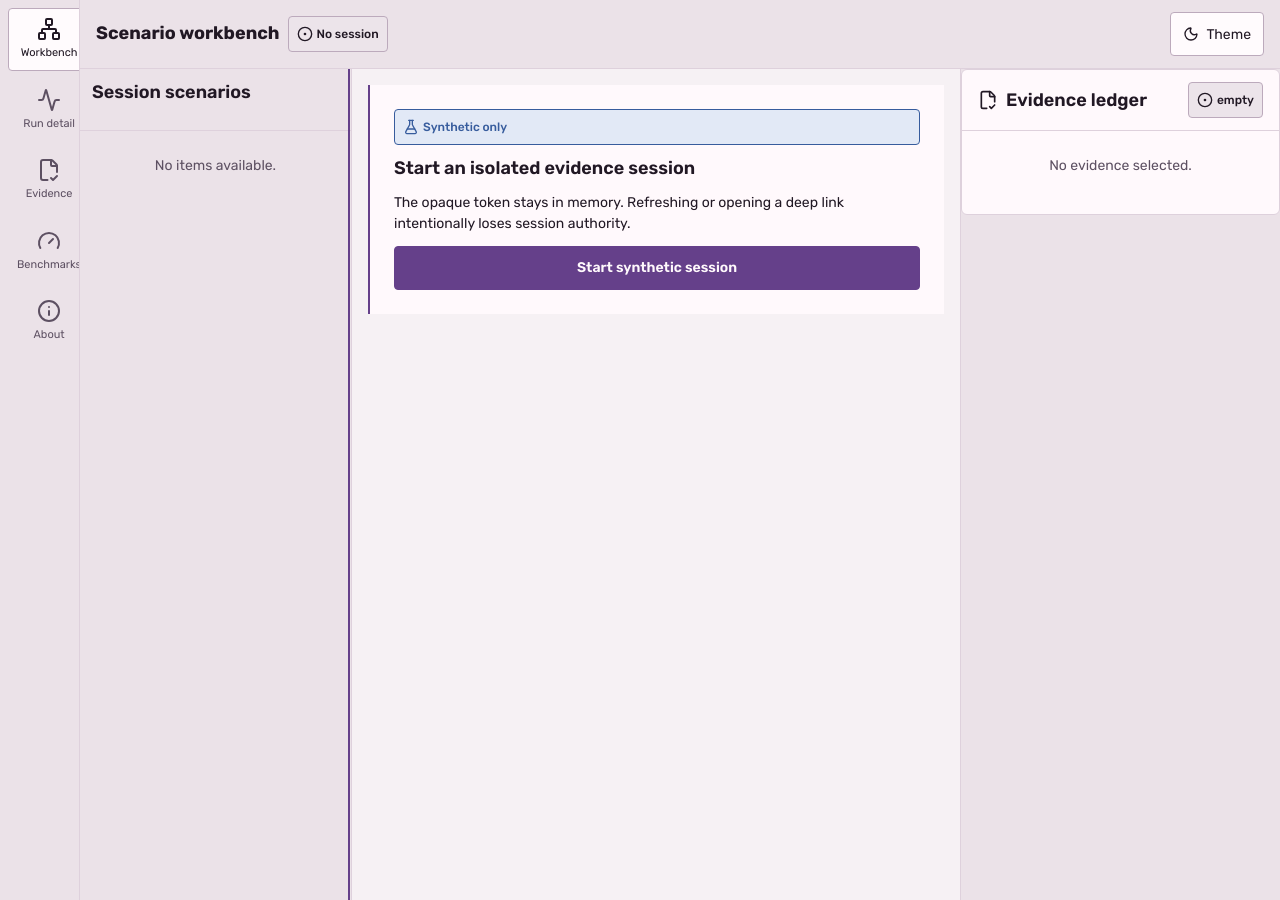
it: artifact-backed secondary routes › keeps empty benchmark numbers local and shows an actionable field error
Click the button "Start synthetic session" at (657, 268), box [394,246,920,290]
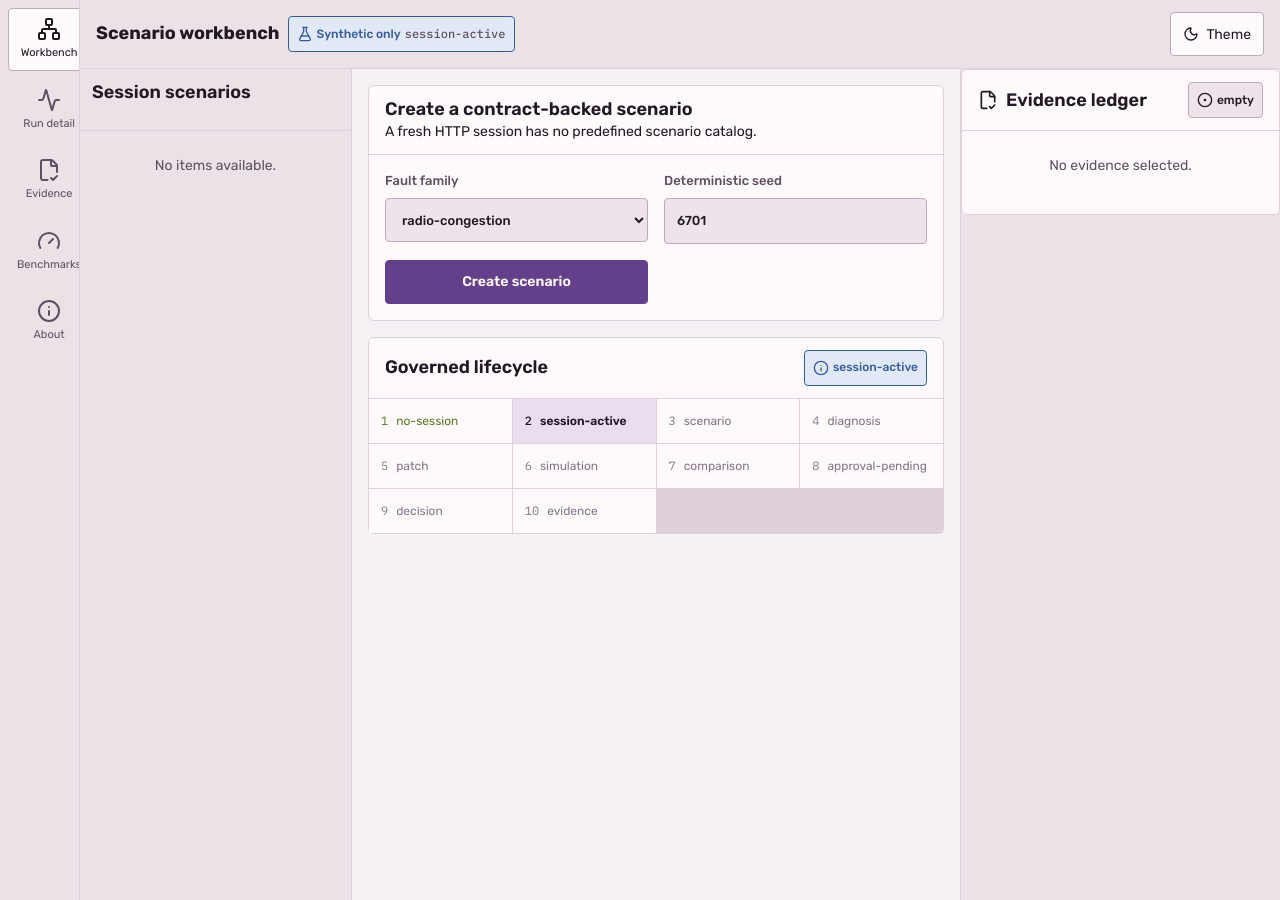
Click the link "Benchmarks" at (49, 250), box [17,228,81,270]
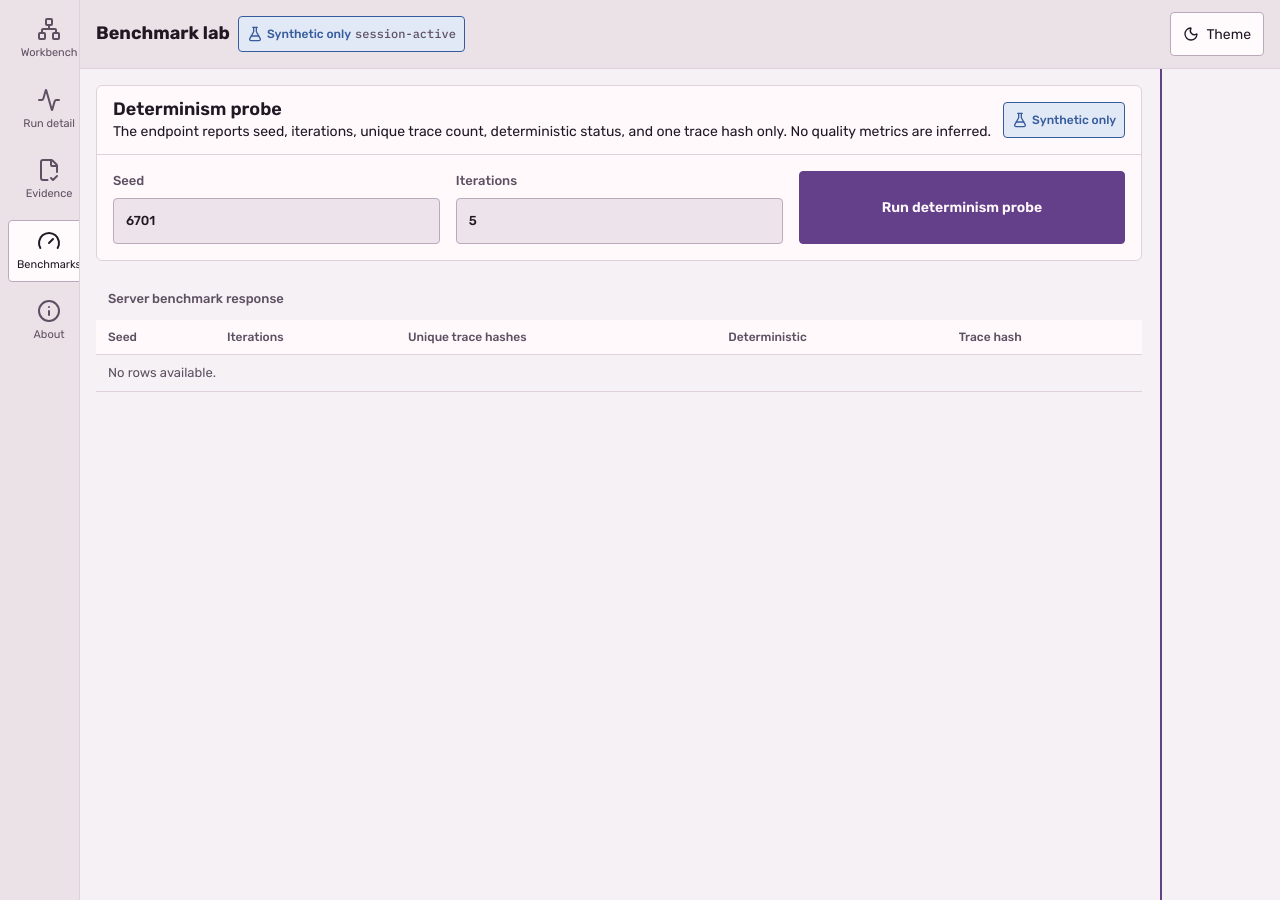
Clear the number field labelled "Iterations" at (619, 221), box [456,198,783,244]
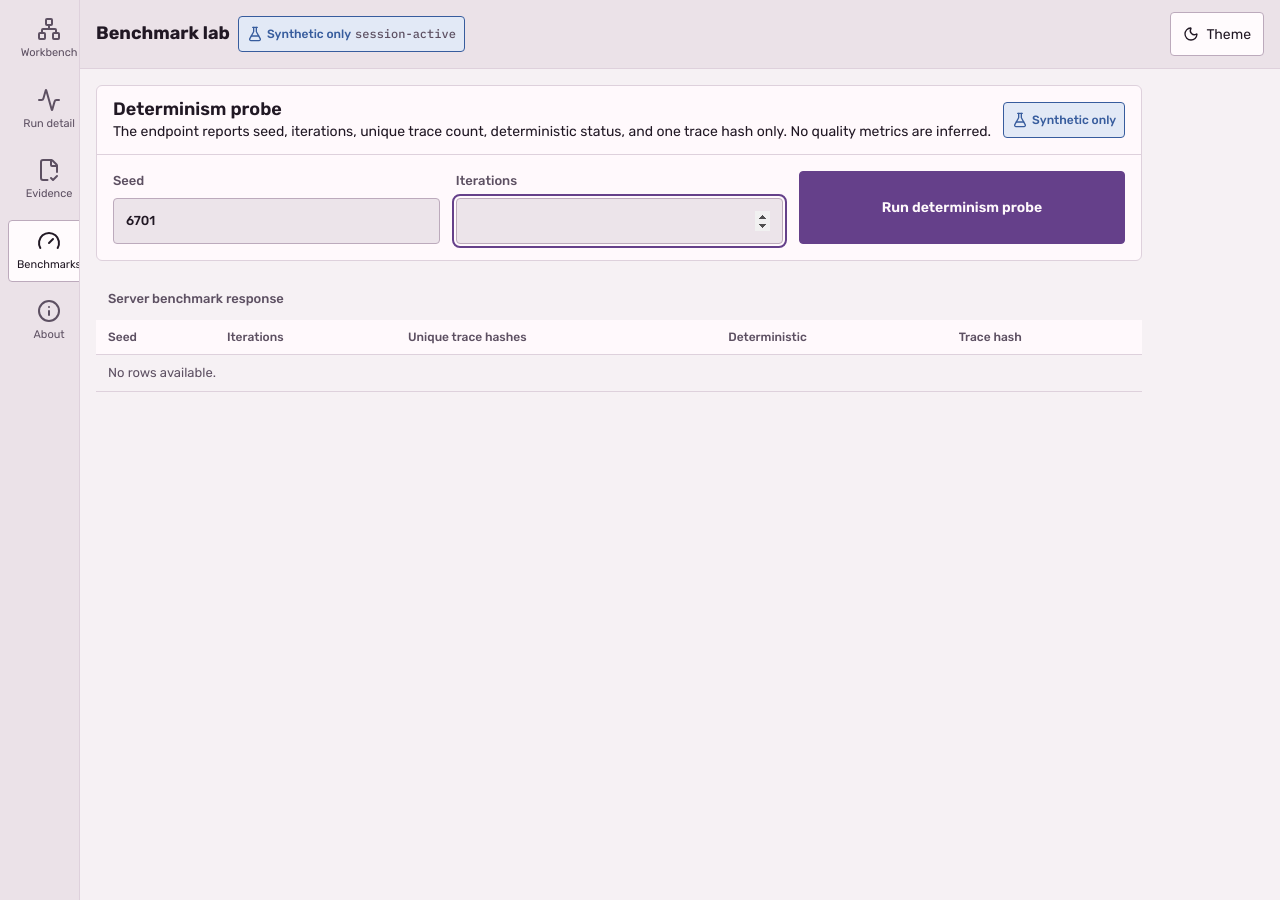
Click the button "Run determinism probe" at (962, 207), box [798,170,1125,244]
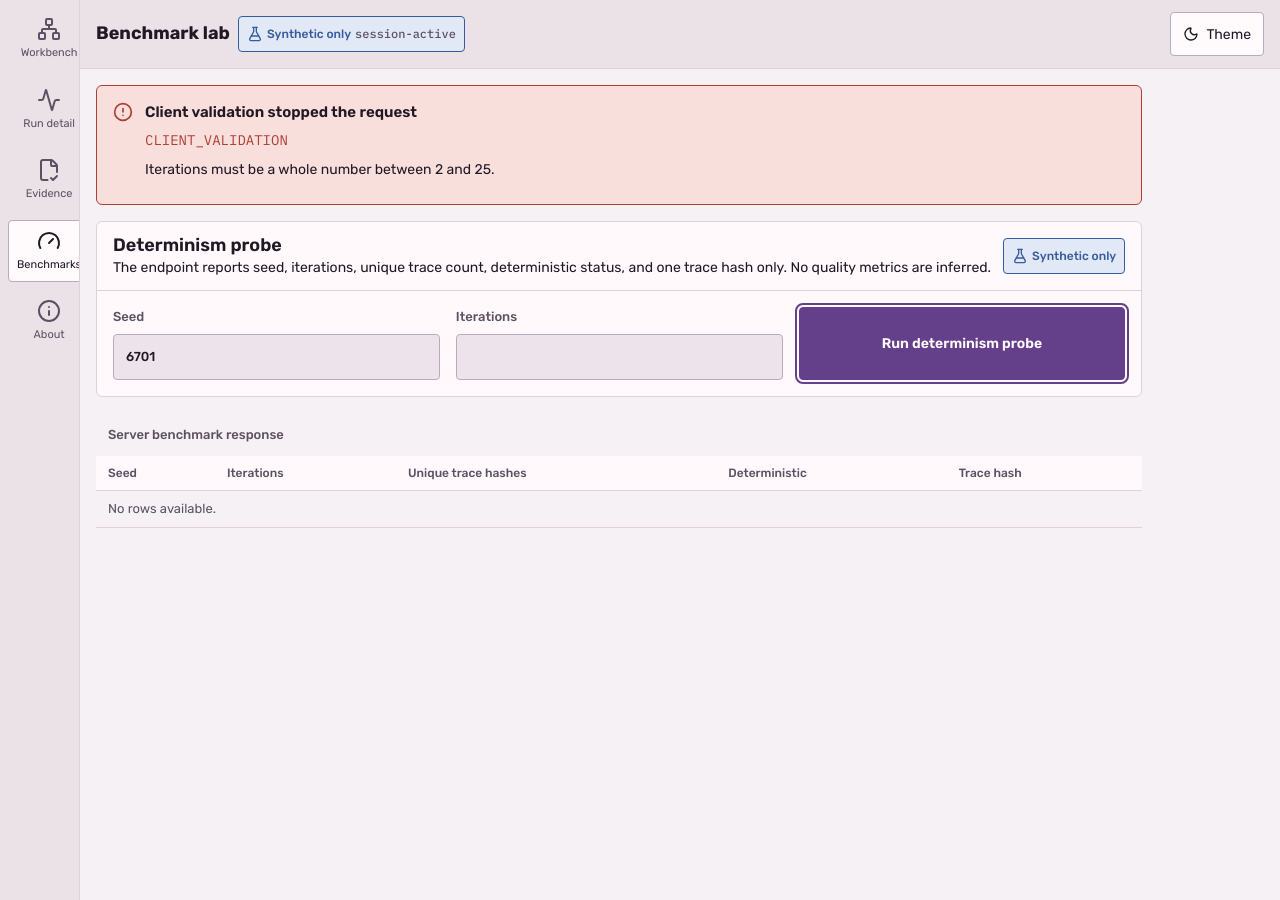
Result: the text "Iterations must be a whole number between 2 and 25." is shown at [145,161,494,178]
